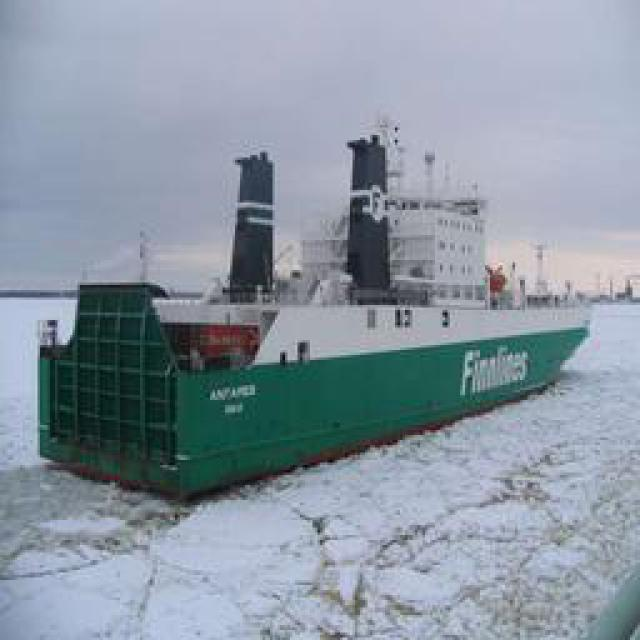Ship: (26, 107, 609, 511)
